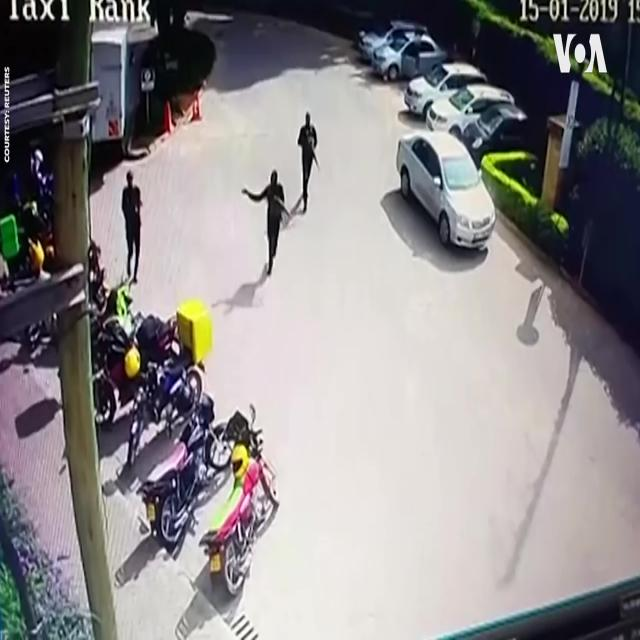Weapon: (264, 181, 300, 233), (301, 121, 326, 169), (129, 186, 153, 234)
